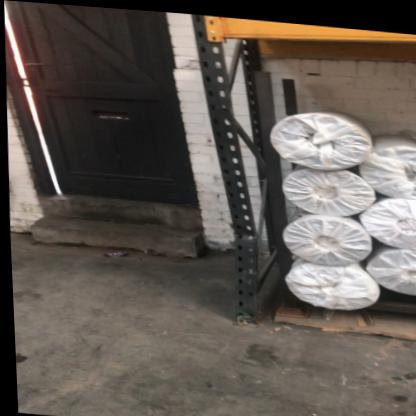vertical_damage: (215, 190, 266, 260)
